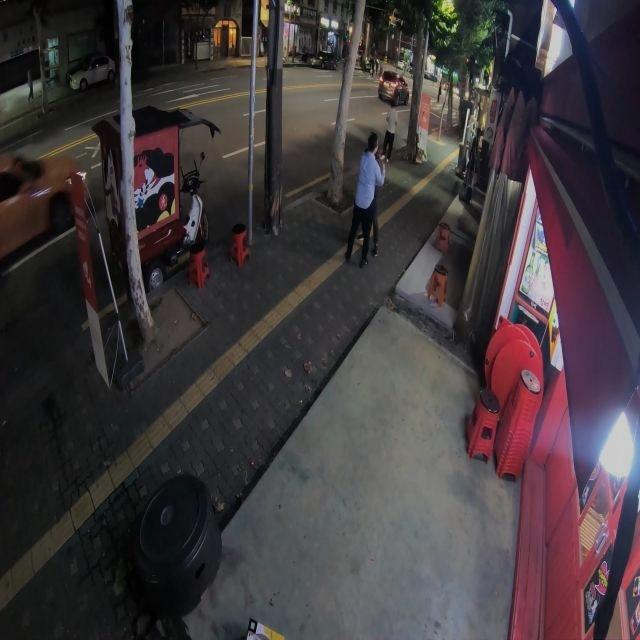fight: (344, 130, 387, 268)
non-fight: (378, 100, 397, 161)
